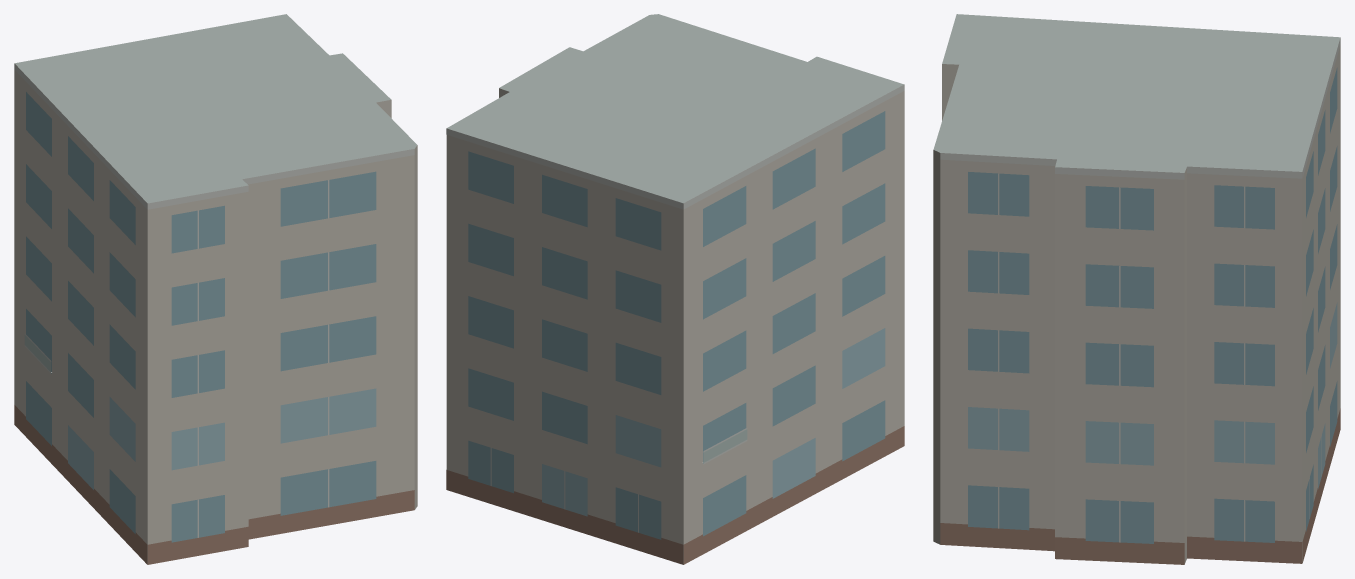
The model's file is survey-upis-32996088.glb.
3 views of the same model, side by side, from view 1: azimuth 30°, elevation 25°; view 2: azimuth 150°, elevation 25°; view 3: azimuth 270°, elevation 25° (orthographic). The views are drawn at different scales.
Visible parts, largest first — view 1: survey-upis-32996088.tmp; view 2: survey-upis-32996088.tmp; view 3: survey-upis-32996088.tmp.
Part boxes in pixels (x1=…): survey-upis-32996088.tmp: x1=14, y1=14, x2=417, y2=564; survey-upis-32996088.tmp: x1=446, y1=14, x2=904, y2=564; survey-upis-32996088.tmp: x1=933, y1=14, x2=1340, y2=564.
Bounding box in the file's own units: 12.28 × 14.1 × 13.29.
